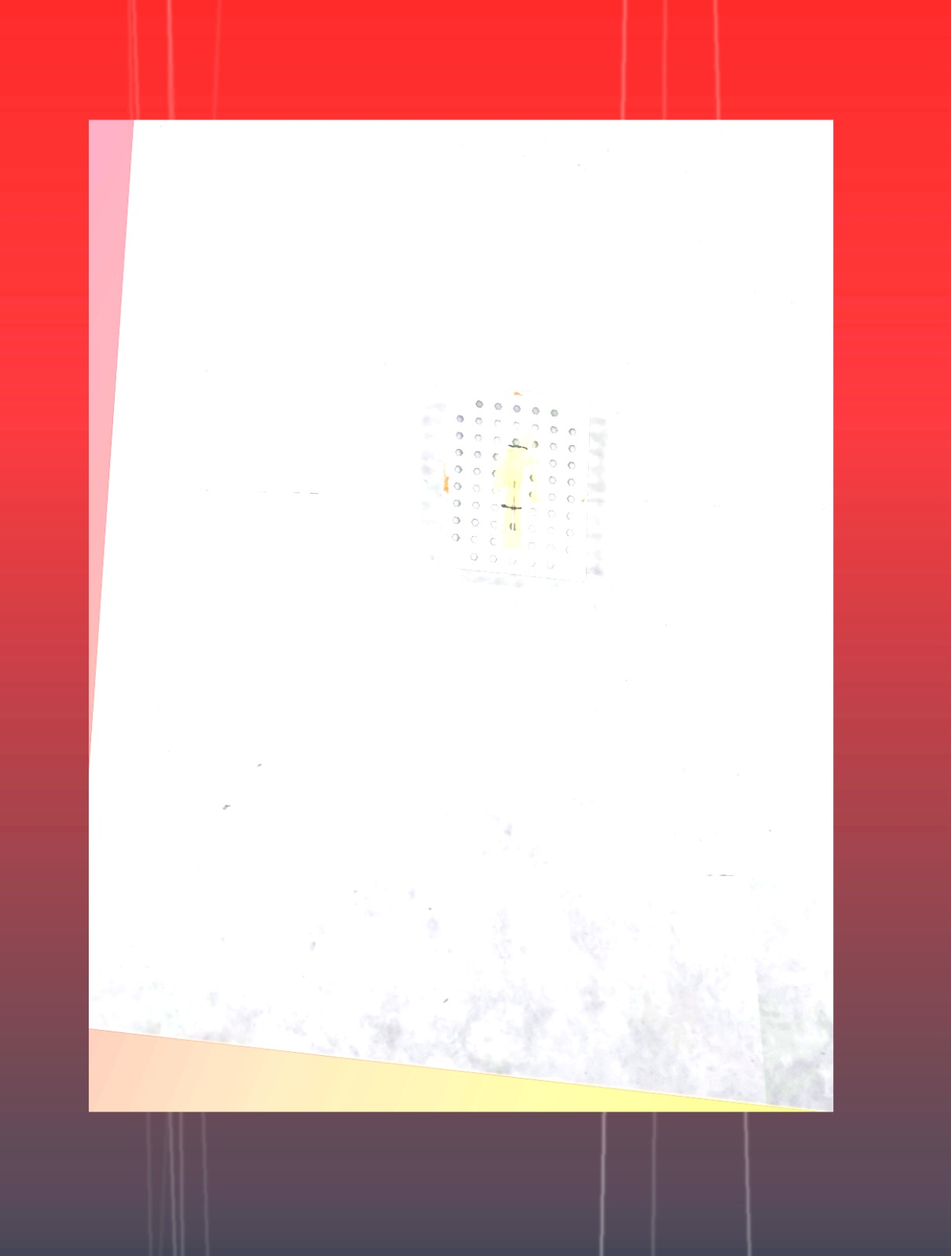basket: (440, 381, 595, 592)
mannequin: (491, 433, 543, 551)
